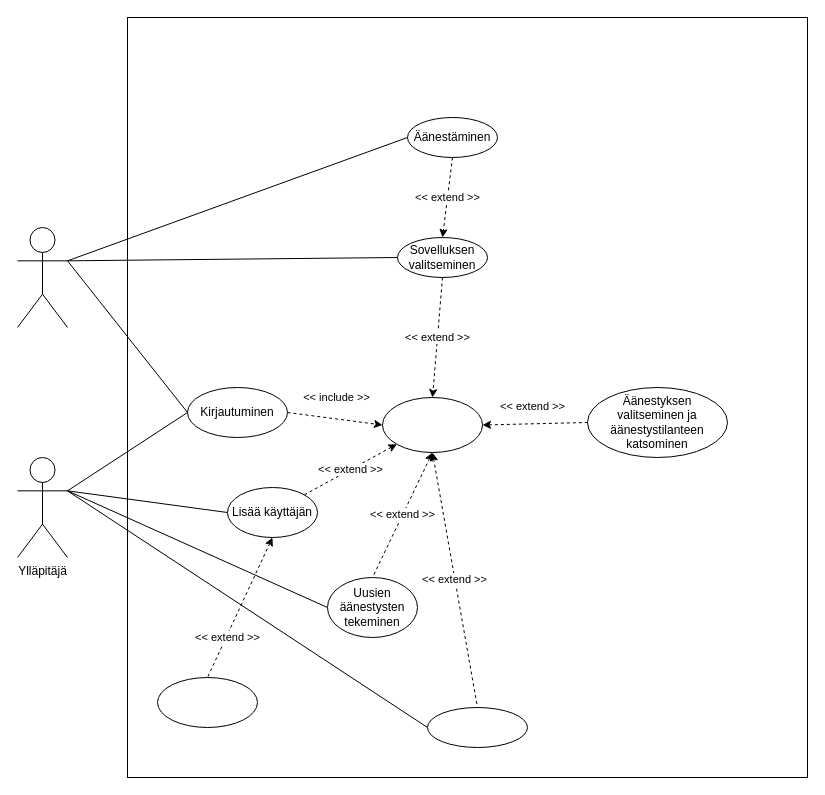
The diagram is 825 pixels wide and 795 high, and some of its shapes have lost their labels. The shapes that lost their labels are listed below. From the top down, each one's box as (x1, y1, x2, y2) in pixels, then its label:
(16, 226, 68, 328): Käyttäjä
(382, 396, 482, 452): Äänestysten selailu
(156, 676, 258, 728): Käyttäjän salasanan resetointi
(426, 706, 528, 748): Äänestysten poistaminen
